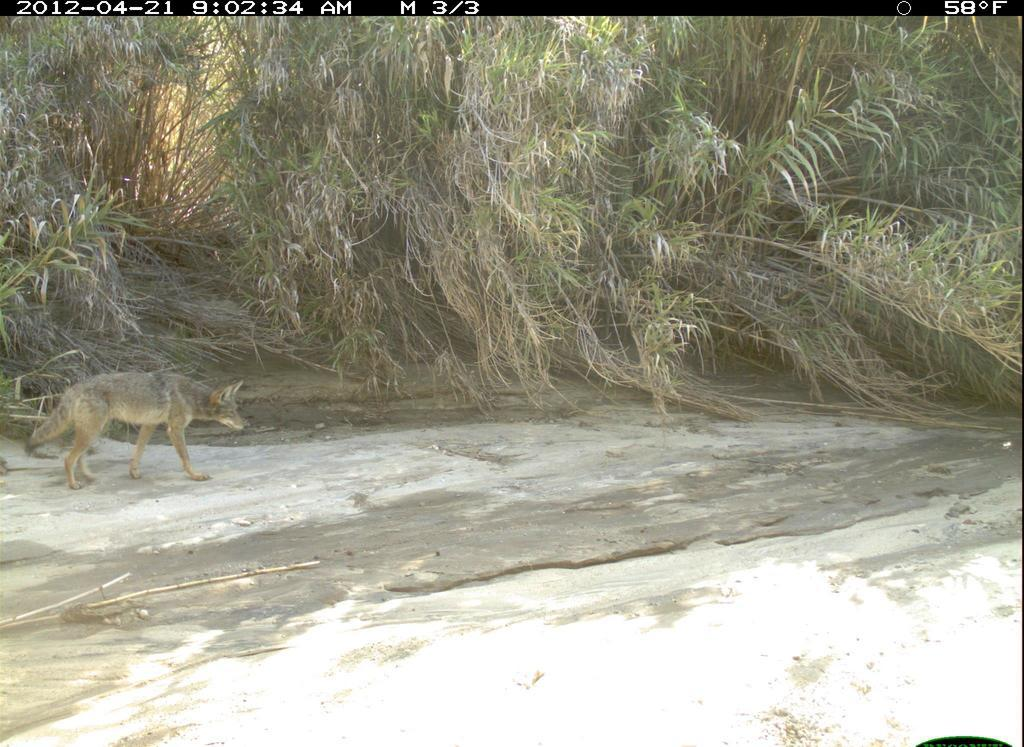coyote: (31, 354, 258, 496)
